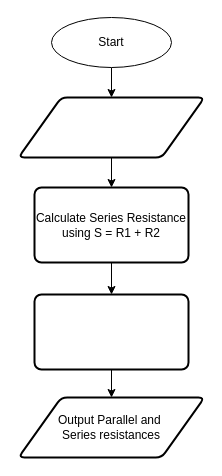
This 222x476 diagram has some shape labels left out. Each missing label, with the centre of its shape:
"Calculate Parallel Resistance using P = 1/(1/R1 + 1/R2)" goes at (x=111, y=331).
"Input first resistor" goes at (x=111, y=127).
